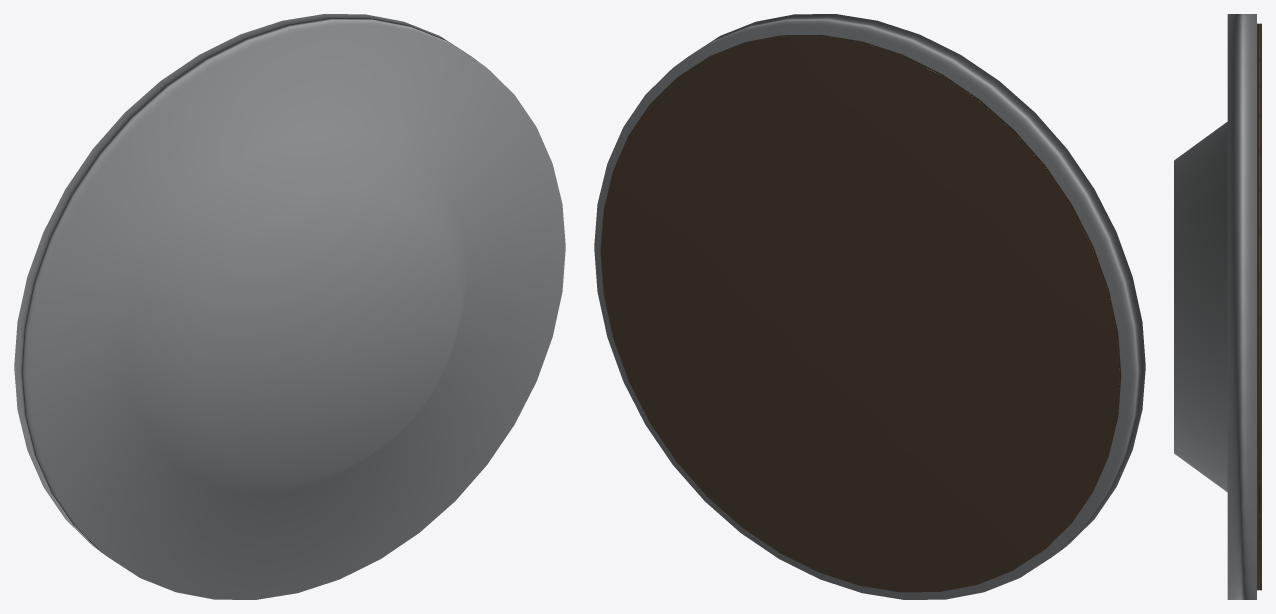
The model's file is adjuster-cover-left.glb.
The picture shows the model from 3 angles, left to right: view 1: azimuth 30°, elevation 25°; view 2: azimuth 150°, elevation 25°; view 3: azimuth 270°, elevation 25°; orthographic projection. The views are drawn at different scales.
Visible parts, largest first — view 1: adjuster-cover-left:castAlu; view 2: adjuster-cover-left:gasket, adjuster-cover-left:castAlu; view 3: adjuster-cover-left:castAlu, adjuster-cover-left:gasket.
Part boxes in pixels (left/top/right/bottom): adjuster-cover-left:castAlu: left=14, top=14, right=565, bottom=599; adjuster-cover-left:gasket: left=600, top=35, right=1121, bottom=592; adjuster-cover-left:castAlu: left=594, top=14, right=1145, bottom=599; adjuster-cover-left:castAlu: left=1174, top=14, right=1256, bottom=599; adjuster-cover-left:gasket: left=1257, top=23, right=1261, bottom=590.
Bounding box in the file's own units: 60 × 60 × 9.
